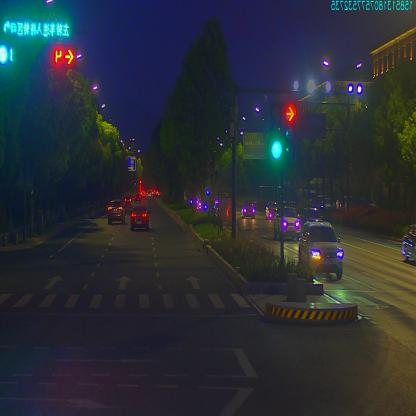traffic-light: (3, 16, 72, 35), (54, 42, 76, 69), (2, 42, 16, 68)
